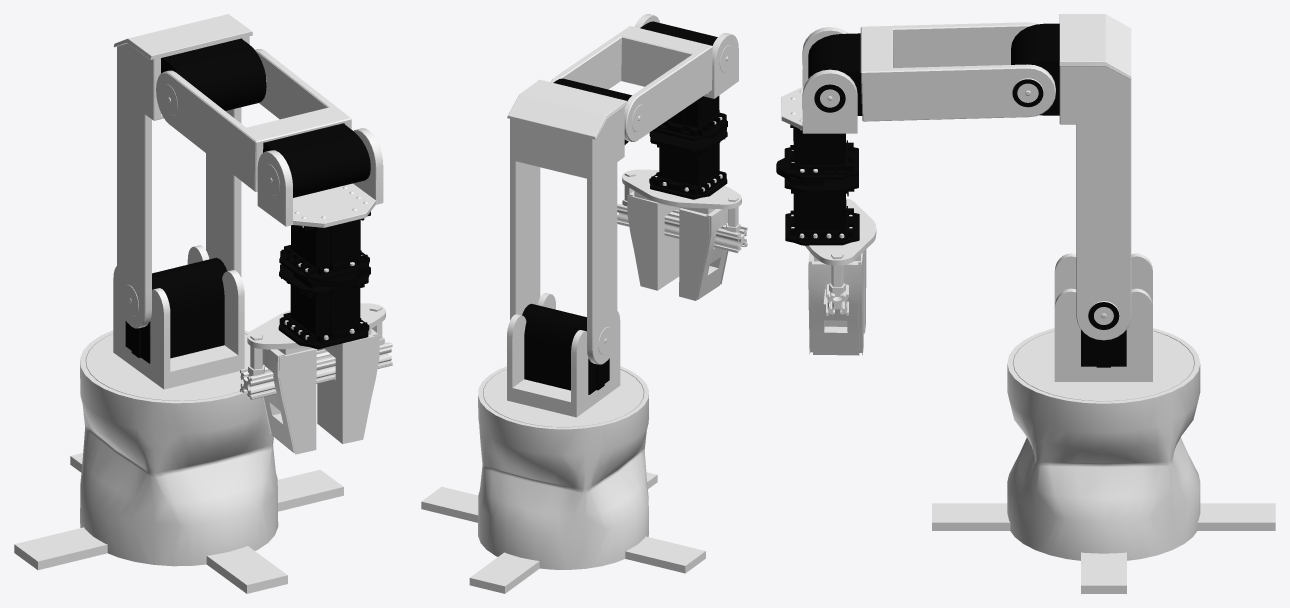
The model's file is Manipulator.fbx.
The picture shows the model from 3 angles, left to right: view 1: azimuth 30°, elevation 25°; view 2: azimuth 150°, elevation 25°; view 3: azimuth 270°, elevation 25°; orthographic projection. The views are drawn at different scales.
Visible parts, largest first — view 1: Base, Arm1, RotationBase, Arm2, Arm3, Arm3.001, HoldingArmLeft, HoldingArmRight; view 2: Base, Arm1, RotationBase, Arm2, Arm3.001, HoldingArmRight, Arm3, HoldingArmLeft; view 3: Base, Arm1, Arm2, RotationBase, Arm3, Arm3.001, HoldingArmLeft.
Part boxes in pixels (x1,y1,x2,y2): Base: (14,330,343,593); Arm1: (113,14,266,328); RotationBase: (86,245,250,400); Arm2: (156,49,370,197); Arm3: (257,128,383,281); Arm3.001: (239,264,392,399); HoldingArmLeft: (317,328,379,444); HoldingArmRight: (262,348,316,454); Base: (421,366,705,593); Arm1: (507,78,631,364); RotationBase: (483,293,643,427); Arm2: (551,21,717,141); Arm3.001: (617,121,747,253); HoldingArmRight: (679,208,728,300); Arm3: (635,14,738,140); HoldingArmLeft: (627,191,680,290); Base: (932,328,1275,593); Arm1: (1011,14,1131,340); Arm2: (808,22,1055,121); RotationBase: (1013,253,1194,401); Arm3: (781,27,858,179); Arm3.001: (776,158,876,315); HoldingArmLeft: (808,252,863,355).
Bounding box in the file's own units: 283 × 440 × 411.
